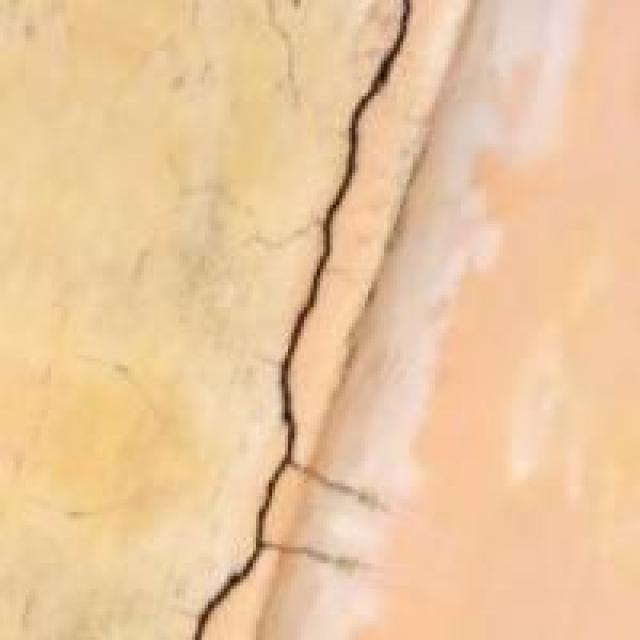Crack: (170, 0, 432, 637)
